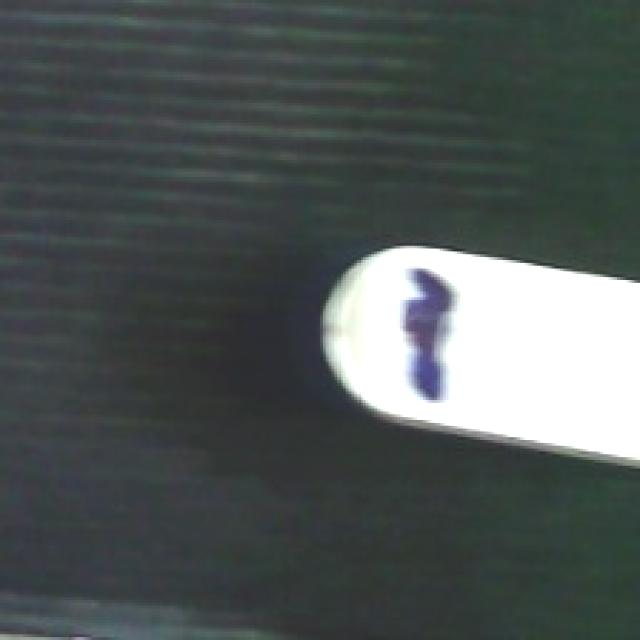defected: (314, 235, 637, 454)
